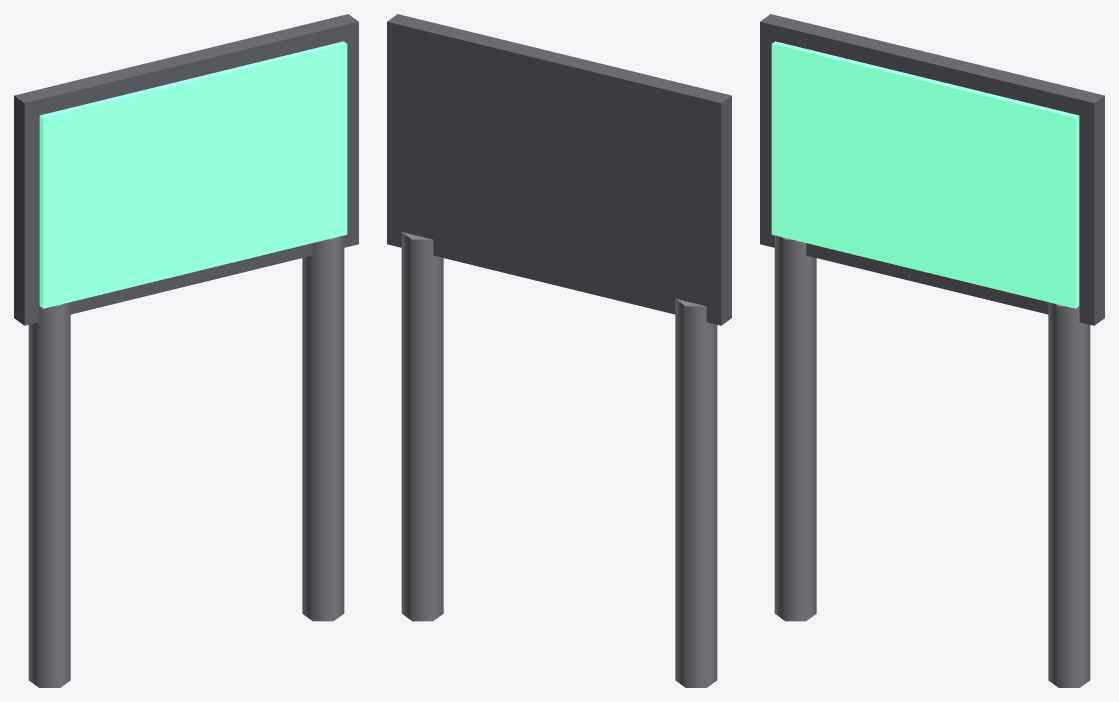
File: scoreboard.glb
The picture shows the model from 3 angles, left to right: view 1: azimuth 30°, elevation 25°; view 2: azimuth 150°, elevation 25°; view 3: azimuth 330°, elevation 25°; orthographic projection.
Visible parts, largest first — view 1: scoreboard; view 2: scoreboard; view 3: scoreboard.
Boxes of the visible parts, <box> form: scoreboard: <box>14,14,358,687</box>; scoreboard: <box>387,14,731,687</box>; scoreboard: <box>760,14,1104,687</box>.
Size of the model in its own units: 1.1 by 1.85 by 0.12.
